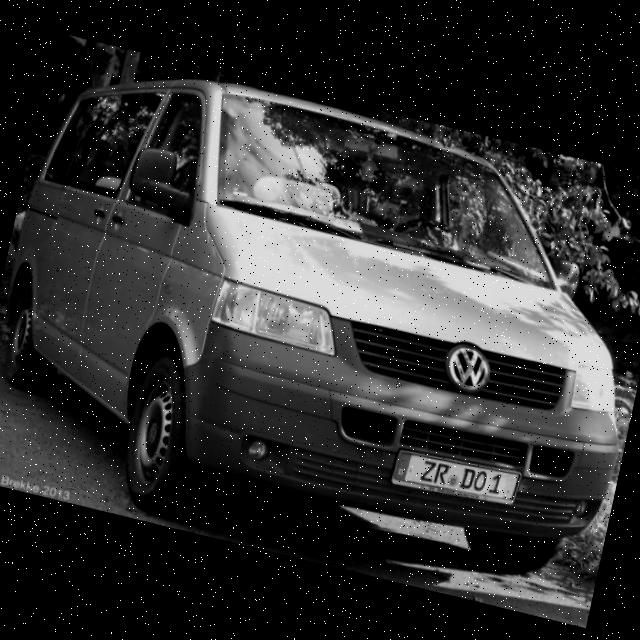license-plates: (392, 451, 520, 505)
